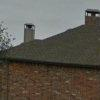Chimney: (17, 12, 37, 48)
